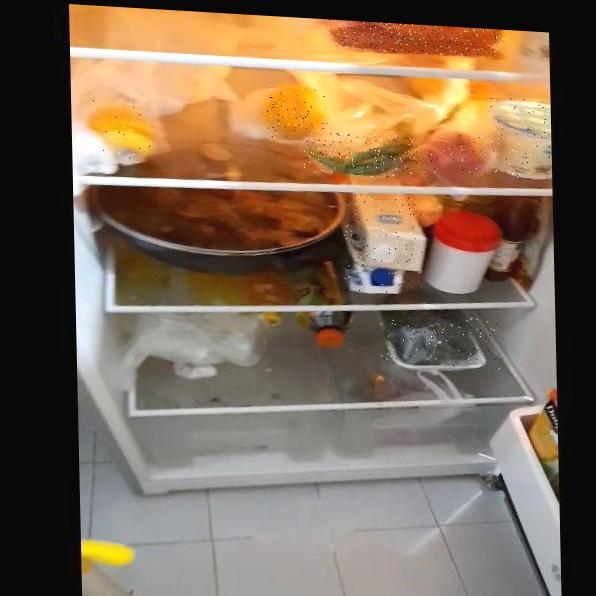broccoli: (379, 312, 503, 370)
carrot: (327, 19, 503, 59)
green chilies: (303, 130, 419, 180)
lemon: (91, 98, 156, 160), (267, 85, 331, 142)
milk: (343, 193, 424, 295)
tomato: (425, 133, 491, 176)
yoghurt: (486, 97, 550, 180)
